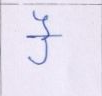ai_matra: (33, 10, 53, 35)
